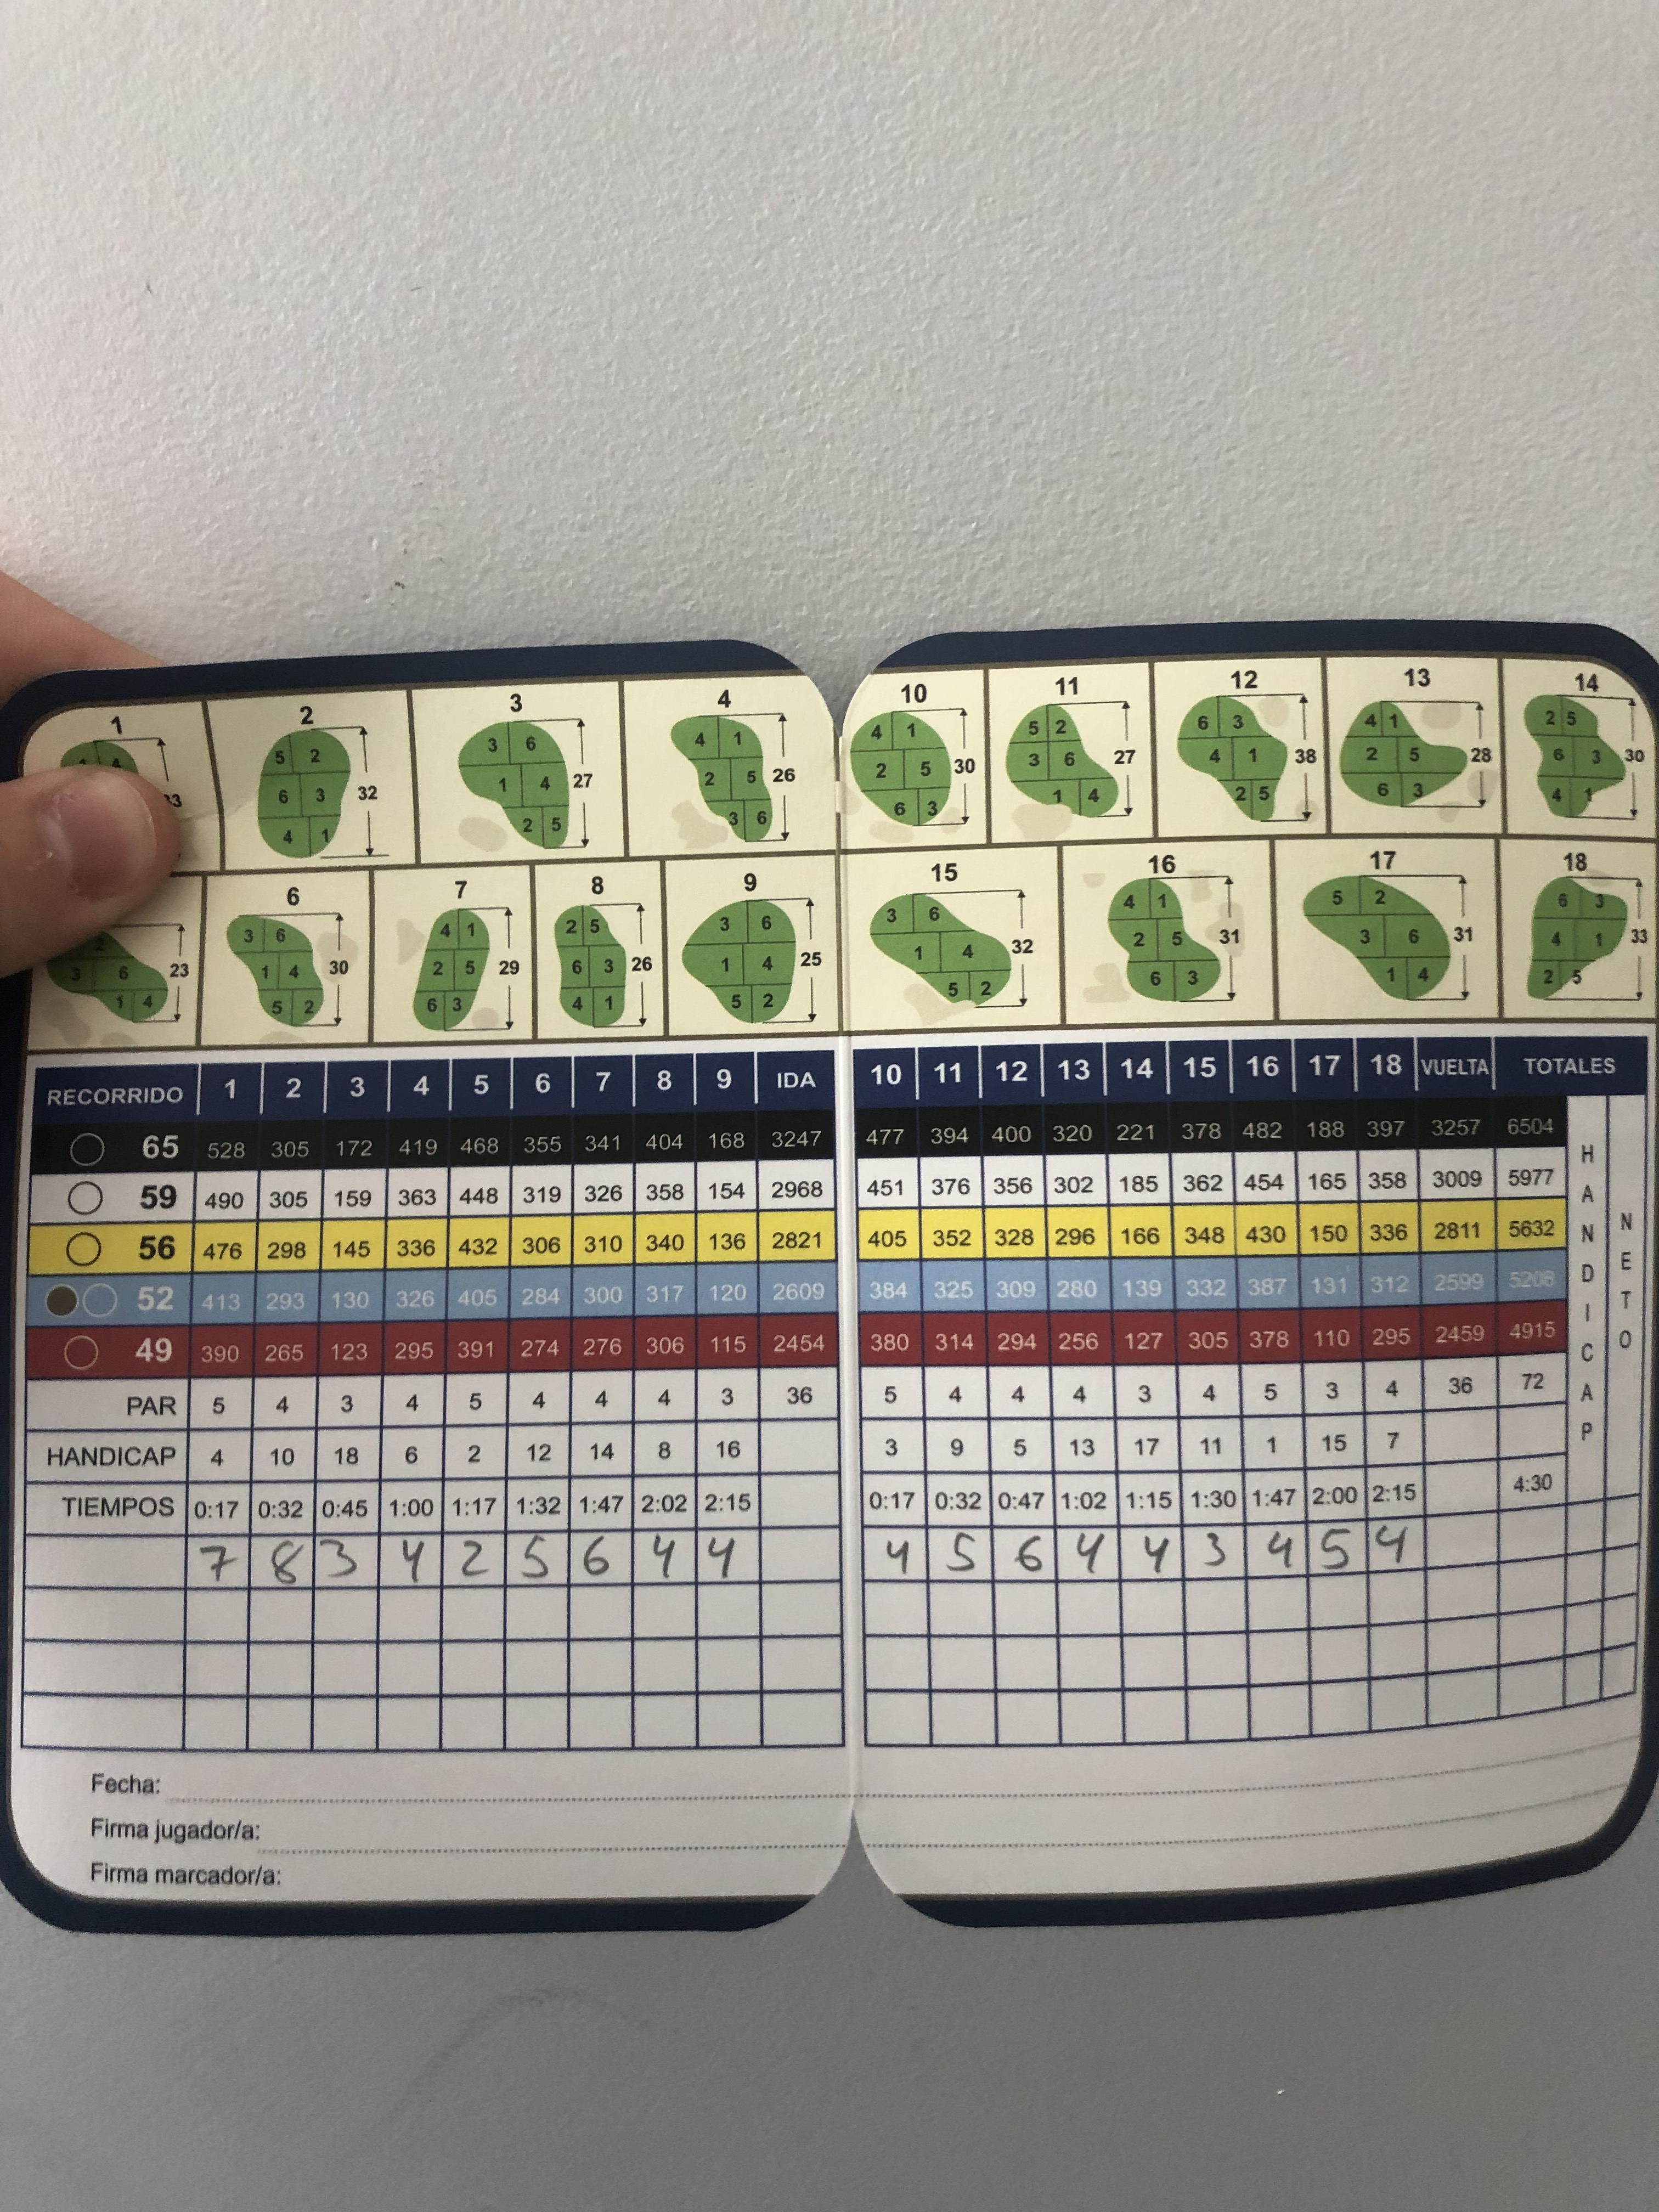par: (120, 1371, 1554, 1421)
score: (178, 1529, 1427, 1576)
